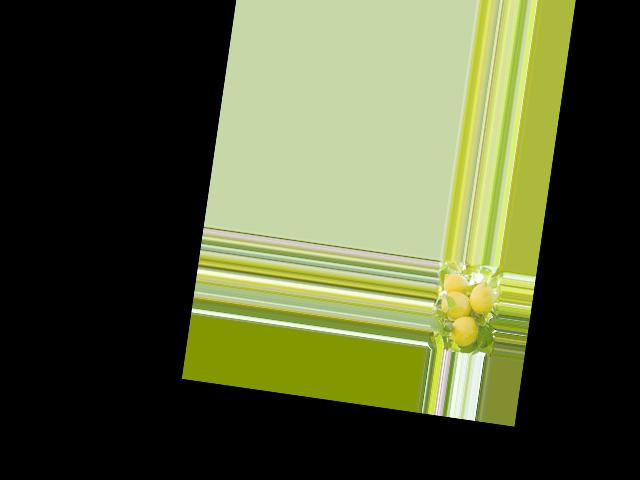lemon: (445, 313, 481, 349)
